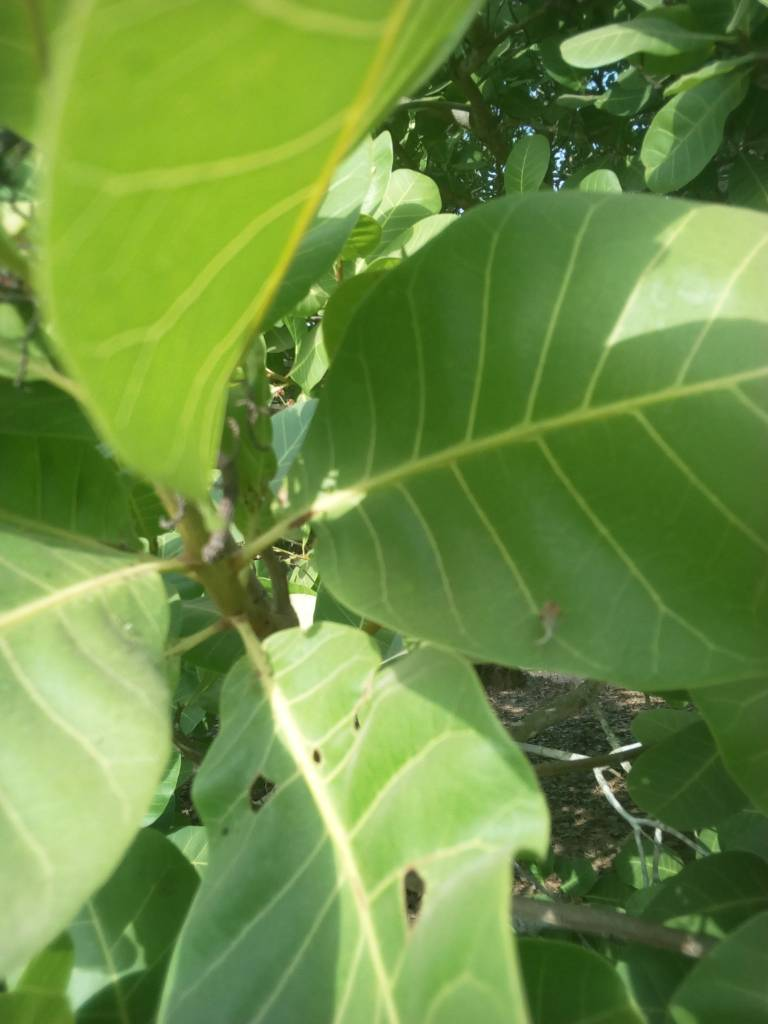Anoplonemis curvipes: (219, 641, 485, 1024)
